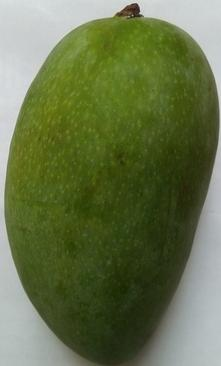Unripe: (1, 1, 221, 366)
